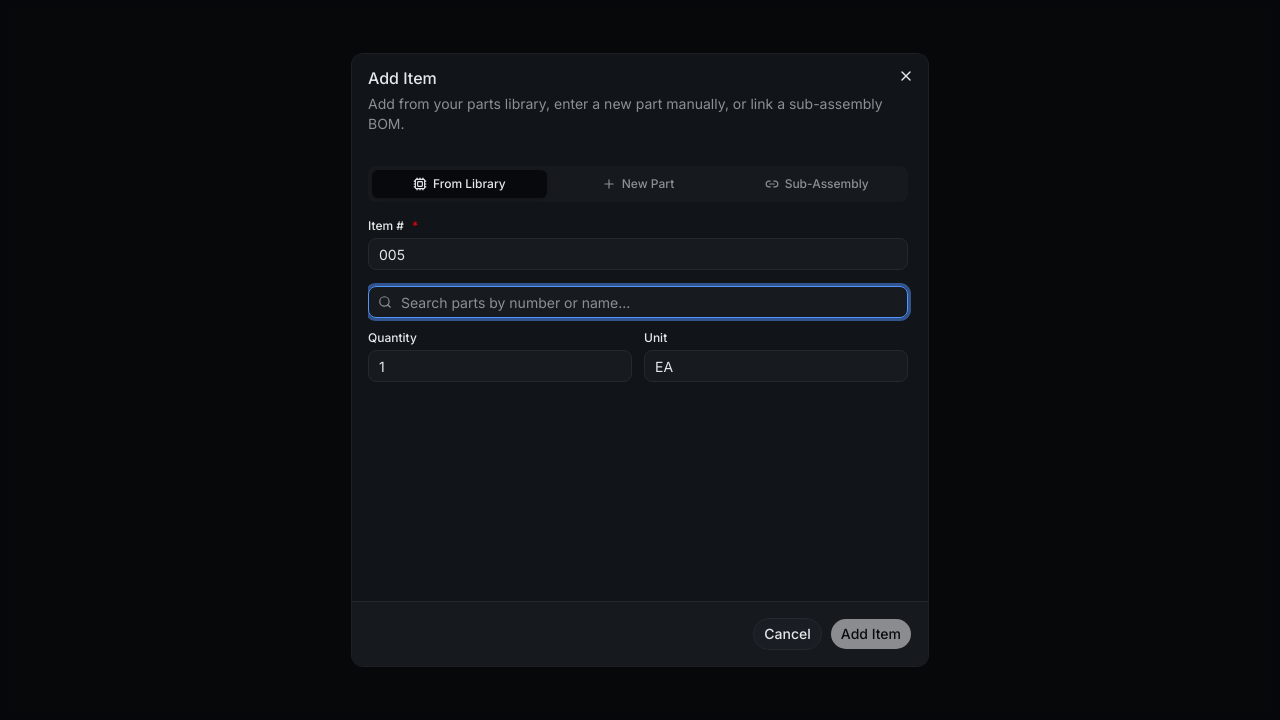
Test: AddItemDialog — sub-assembly mode › lets the chosen BOM be cleared again
The image size is (1280, 720).
What coordinates should you click on to do the following:
click the button "Sub-Assembly"
I would click on:
 (817, 184)
Its box is [729,170,904,198].
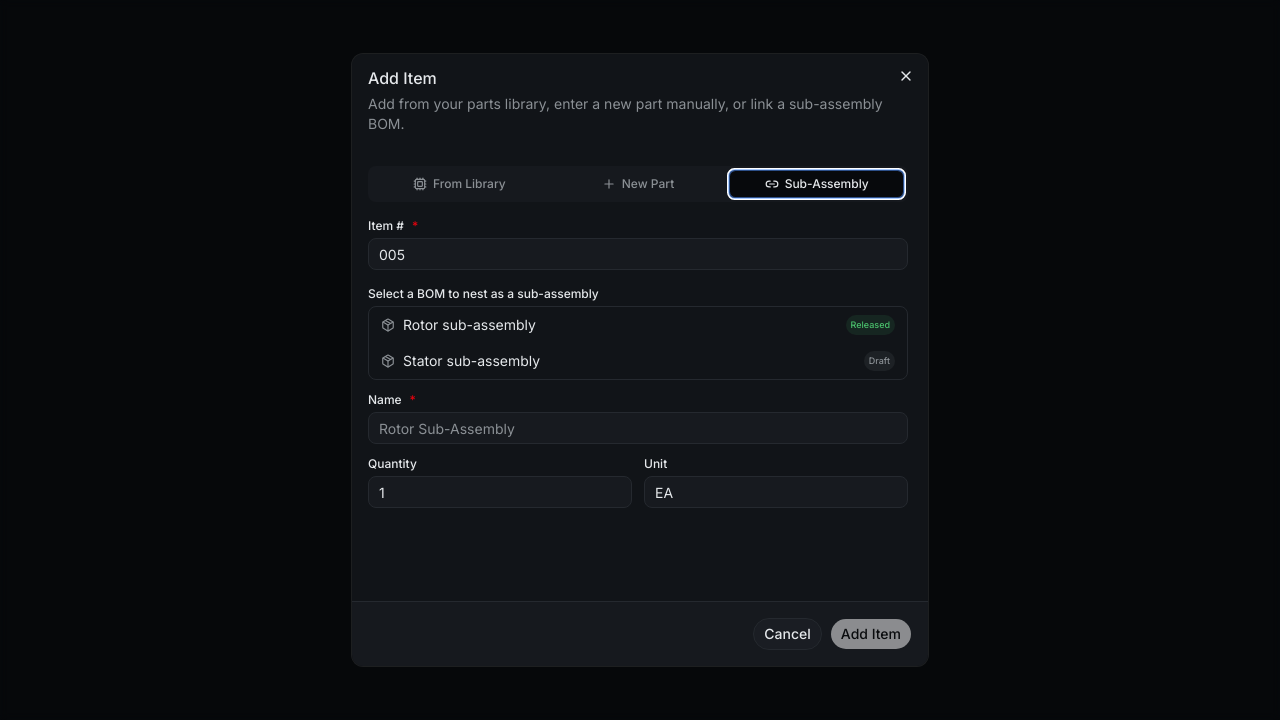
What coordinates should you click on to do the following:
click the button "Rotor sub-assembly Released"
I would click on:
 (469, 324)
Its box is [369,307,907,343].
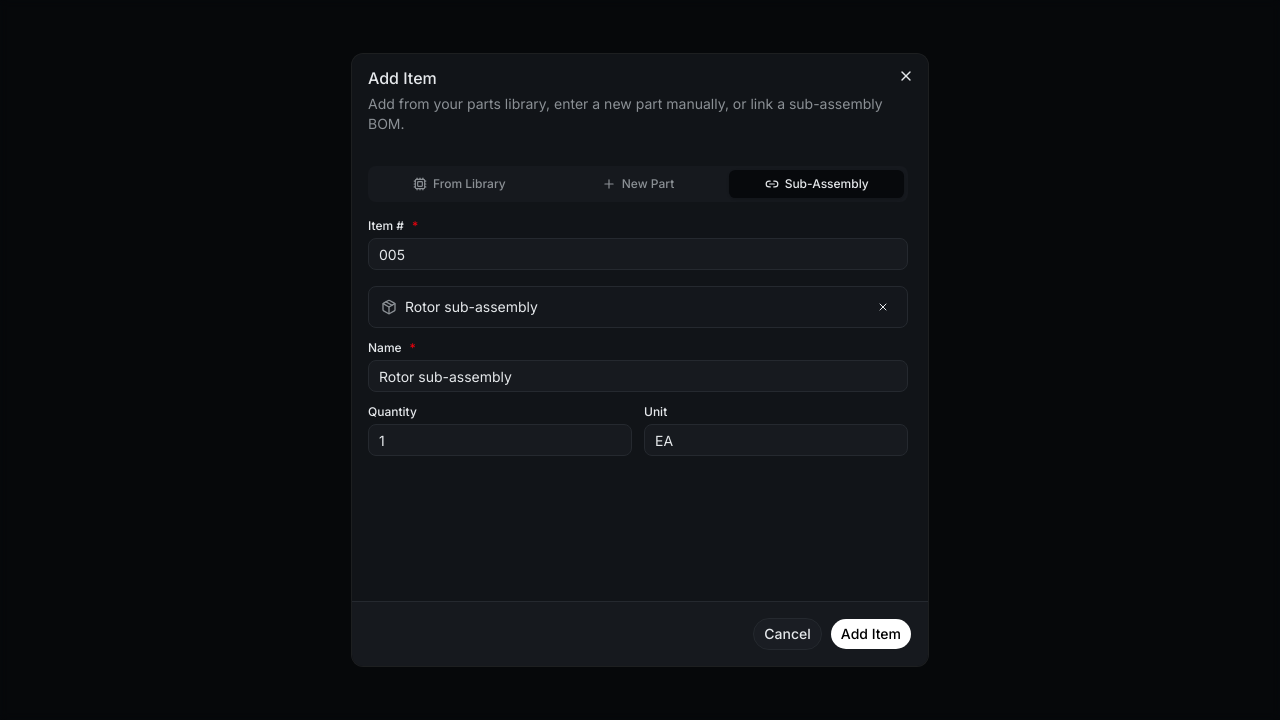
Result: the button "Stator sub-assembly" is gone
What coordinates should you click on to do the following:
click the button without text in the row of "Rotor sub-assembly"
I would click on:
 (883, 307)
Its box is [871,295,895,319].
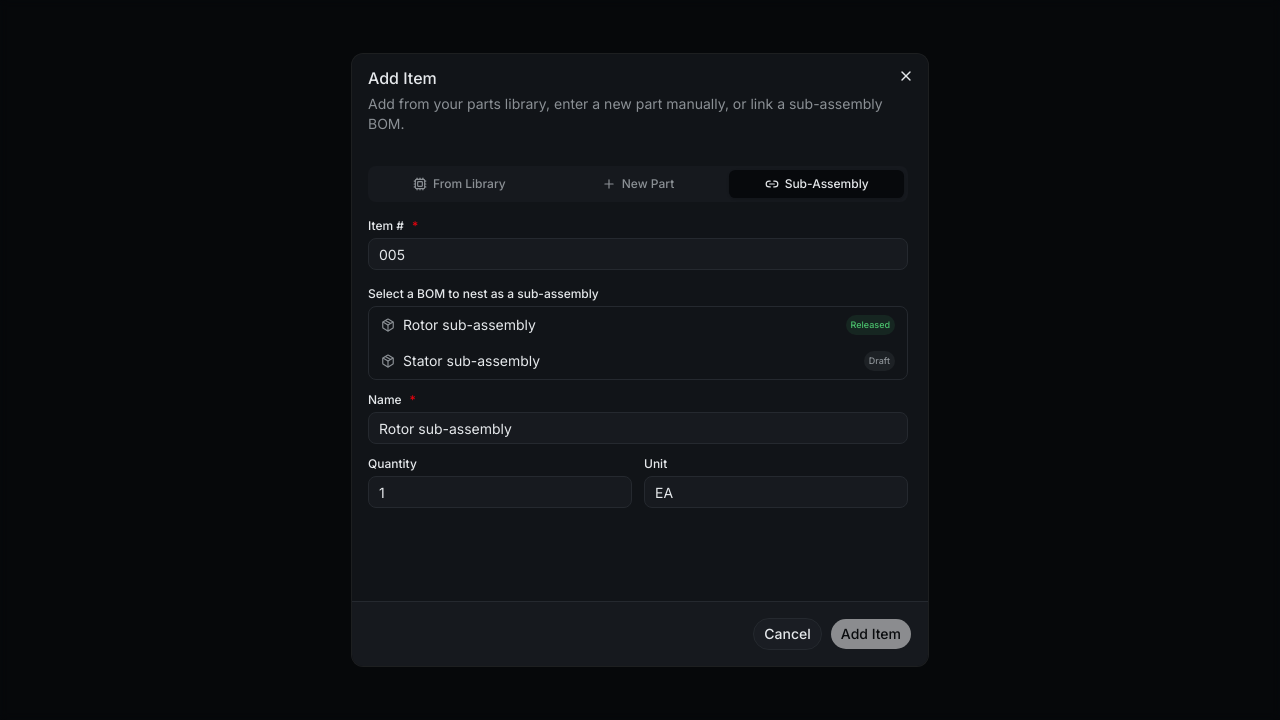
Result: the button "Stator sub-assembly Draft" is shown at [369,343,907,379]
